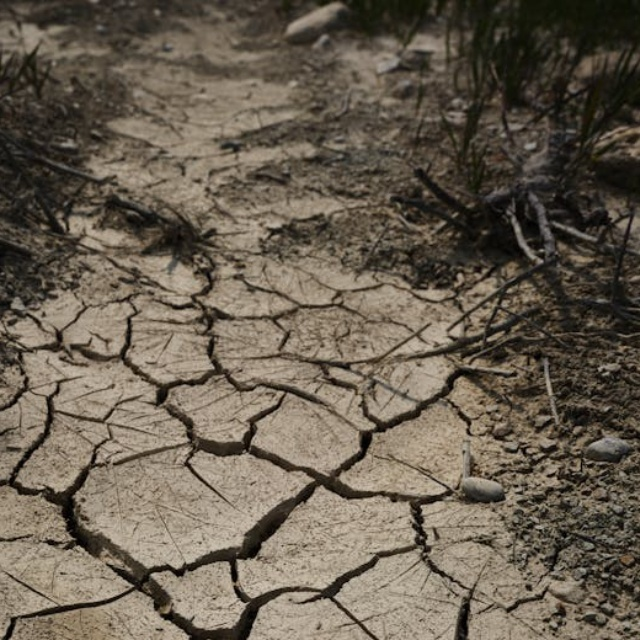网状裂隙: (0, 289, 624, 640)
